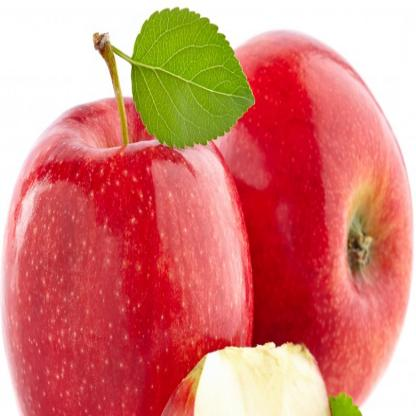apple: (163, 37, 415, 415), (5, 99, 254, 415)
